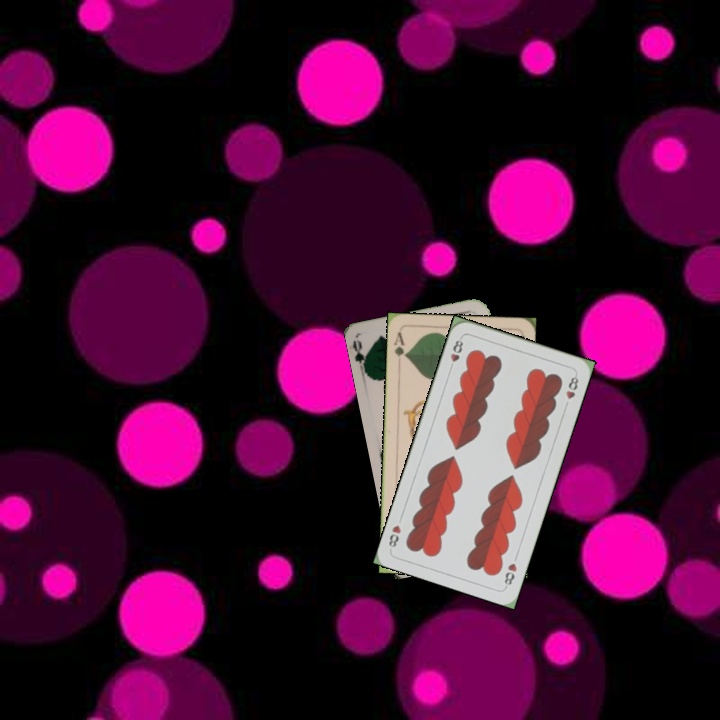GA: (390, 328, 409, 368)
GO: (349, 337, 371, 378)
H8: (445, 333, 466, 373), (500, 559, 520, 590)
